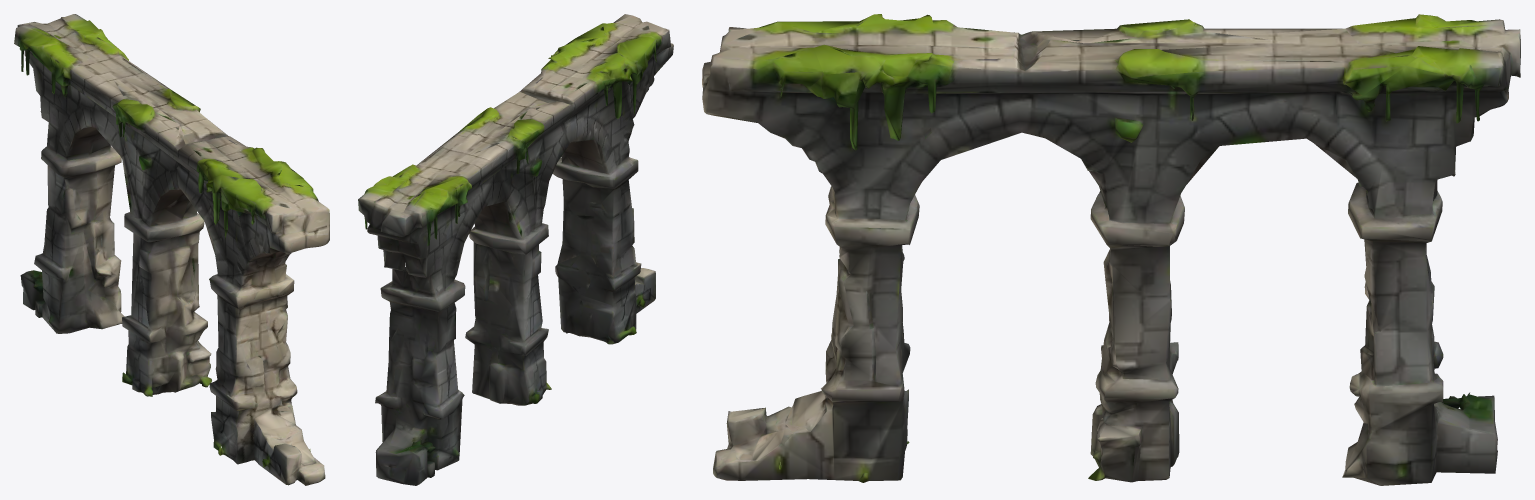
Rendered from aqueduct.glb.
3 views of the same model, side by side, from view 1: azimuth 30°, elevation 25°; view 2: azimuth 150°, elevation 25°; view 3: azimuth 270°, elevation 25° (orthographic). The views are drawn at different scales.
Parts seen in each view (by area): view 1: tripo_node_686b7387; view 2: tripo_node_686b7387; view 3: tripo_node_686b7387.
Part boxes in pixels (x1=…): tripo_node_686b7387: x1=14, y1=14, x2=329, y2=485; tripo_node_686b7387: x1=358, y1=14, x2=673, y2=485; tripo_node_686b7387: x1=702, y1=14, x2=1520, y2=485.
Size of the model in its own units: 17.2 by 57.64 by 99.7.
1 material, 1 textured.
